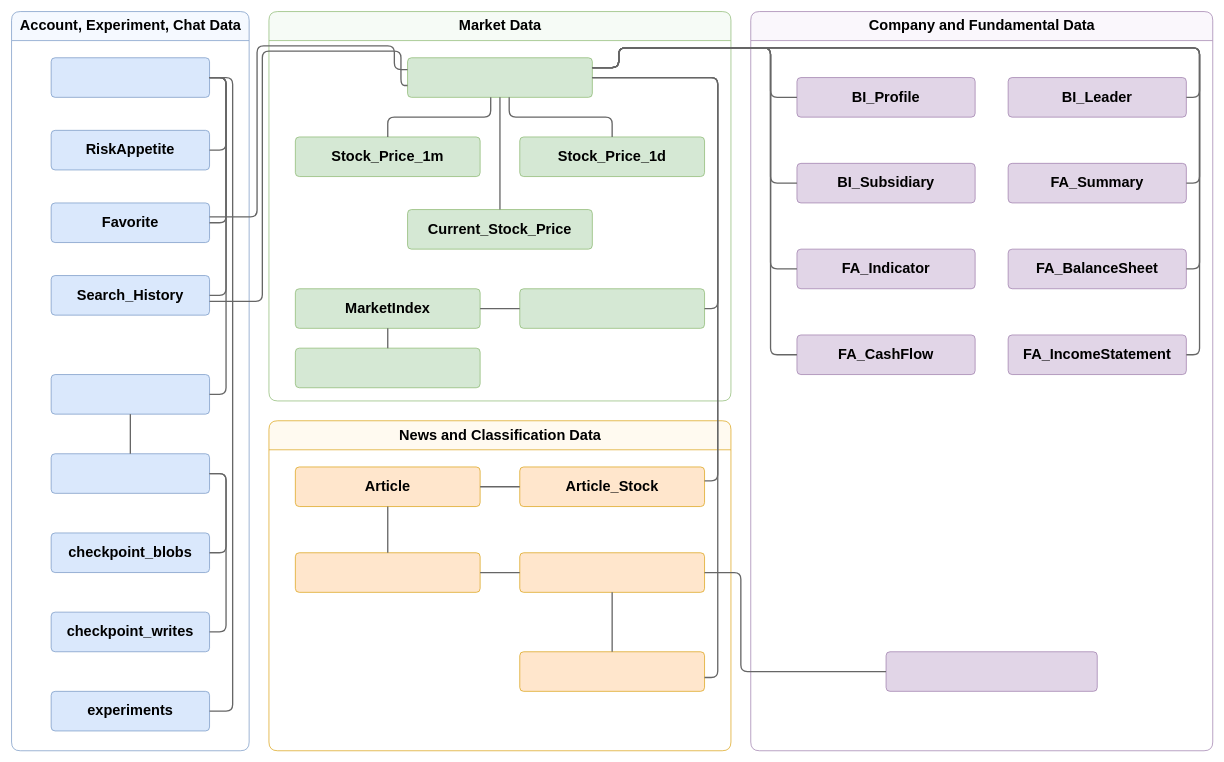
The diagram is 1224 pixels wide and 762 high, and some of its shapes have lost their labels. The shapes that lost their labels are listed below. From the top down, each one's centre as x and y in pixels, then its label:
At (130,77): "User".
At (499,77): "Stock".
At (612,308): "Stock_MarketIndex".
At (387,367): "Current_Market_Index".
At (130,394): "chat_sessions".
At (130,473): "checkpoints".
At (387,572): "Article_Category".
At (612,572): "Category".
At (612,671): "Category_Stock".
At (991,671): "FA_Industry_Aggregate".
